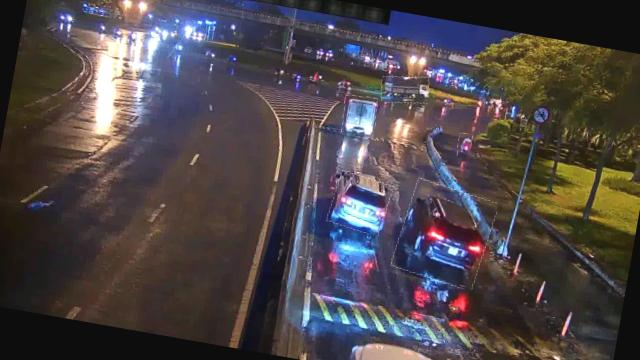Bike: (456, 132, 474, 157)
Car: (392, 180, 497, 290), (327, 171, 392, 235)
Truck: (379, 71, 431, 108), (340, 93, 380, 139)
